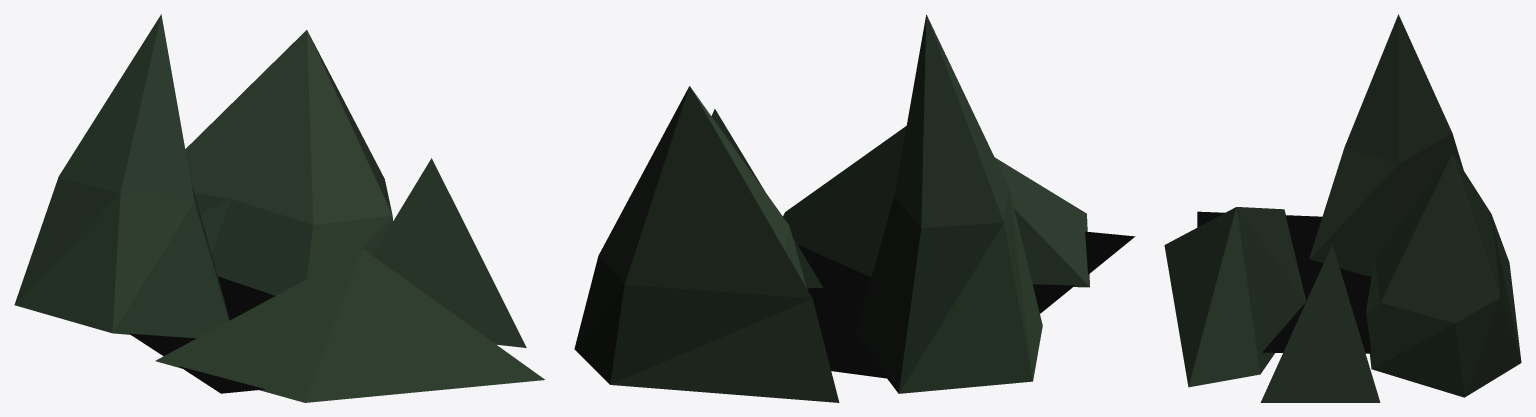
Rendered from adamant-rocks.obj.
3 renders of one model, left to right at view 1: azimuth 30°, elevation 25°; view 2: azimuth 150°, elevation 25°; view 3: azimuth 270°, elevation 25°, orthographic. The views are drawn at different scales.
Visible parts, largest first — view 1: Object Adamantite rocks 2026-09-12_20-57-24; view 2: Object Adamantite rocks 2026-09-12_20-57-24; view 3: Object Adamantite rocks 2026-09-12_20-57-24.
Boxes of the visible parts, bbox=[...] form: Object Adamantite rocks 2026-09-12_20-57-24: bbox=[14, 14, 544, 402]; Object Adamantite rocks 2026-09-12_20-57-24: bbox=[574, 14, 1135, 402]; Object Adamantite rocks 2026-09-12_20-57-24: bbox=[1164, 14, 1521, 402].
Size of the model in its own units: 126 by 102 by 119.
